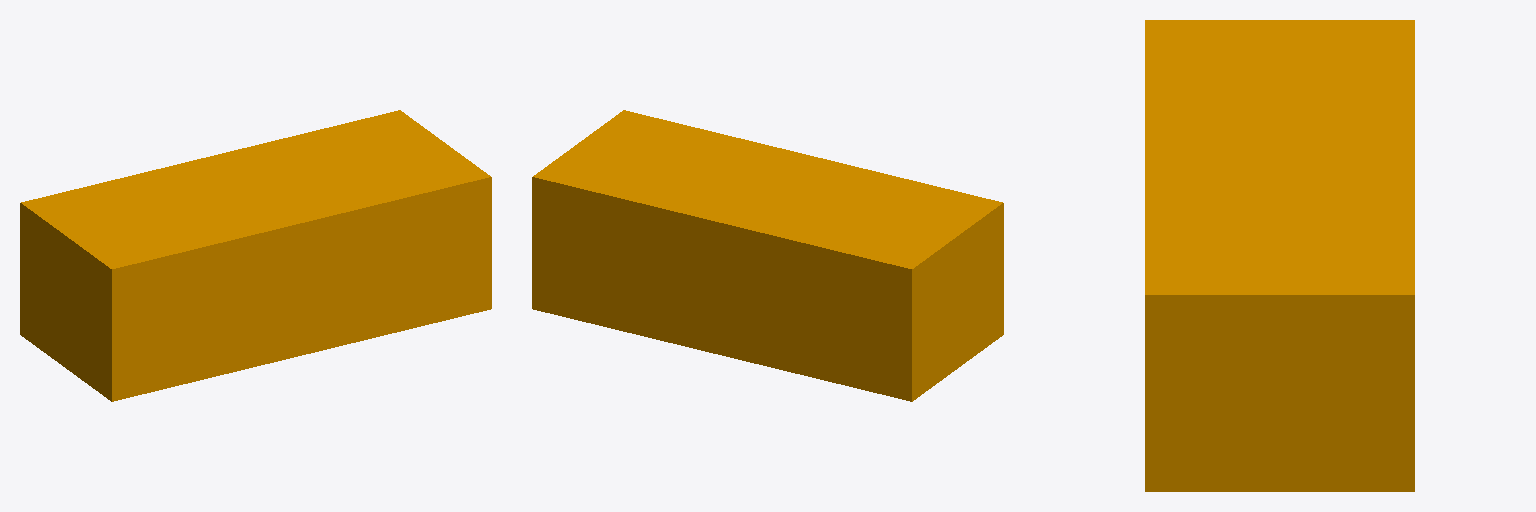
The robot description file, URDF, robot "bara":
<?xml version="1.0"?>
<robot name="bara">

    <link name="base_link">
        <visual>
            <geometry>
                <box size="0.12 0.05 0.04"/>
            </geometry>
        </visual>
    </link>

 </robot>

--- What the picture shows (computed from the rendered views, not written in the file) ---
3 views of the same robot in one strip: view 1: azimuth 30°, elevation 25°; view 2: azimuth 150°, elevation 25°; view 3: azimuth 270°, elevation 25° (orthographic).
Model bara with 1 links and 0 joints (none), rooted at base_link, posed all joints at 0.
Links seen in each view (by area): view 1: base_link; view 2: base_link; view 3: base_link.
Boxes of the visible links, box(x1,y1,x2,y2) form: base_link: box(20, 110, 491, 401); base_link: box(532, 110, 1003, 401); base_link: box(1145, 20, 1414, 491).
Size in the robot's own frame: 0.12 by 0.05 by 0.04 metres.
Geometry: primitives only (box / cylinder / sphere), no mesh files.
